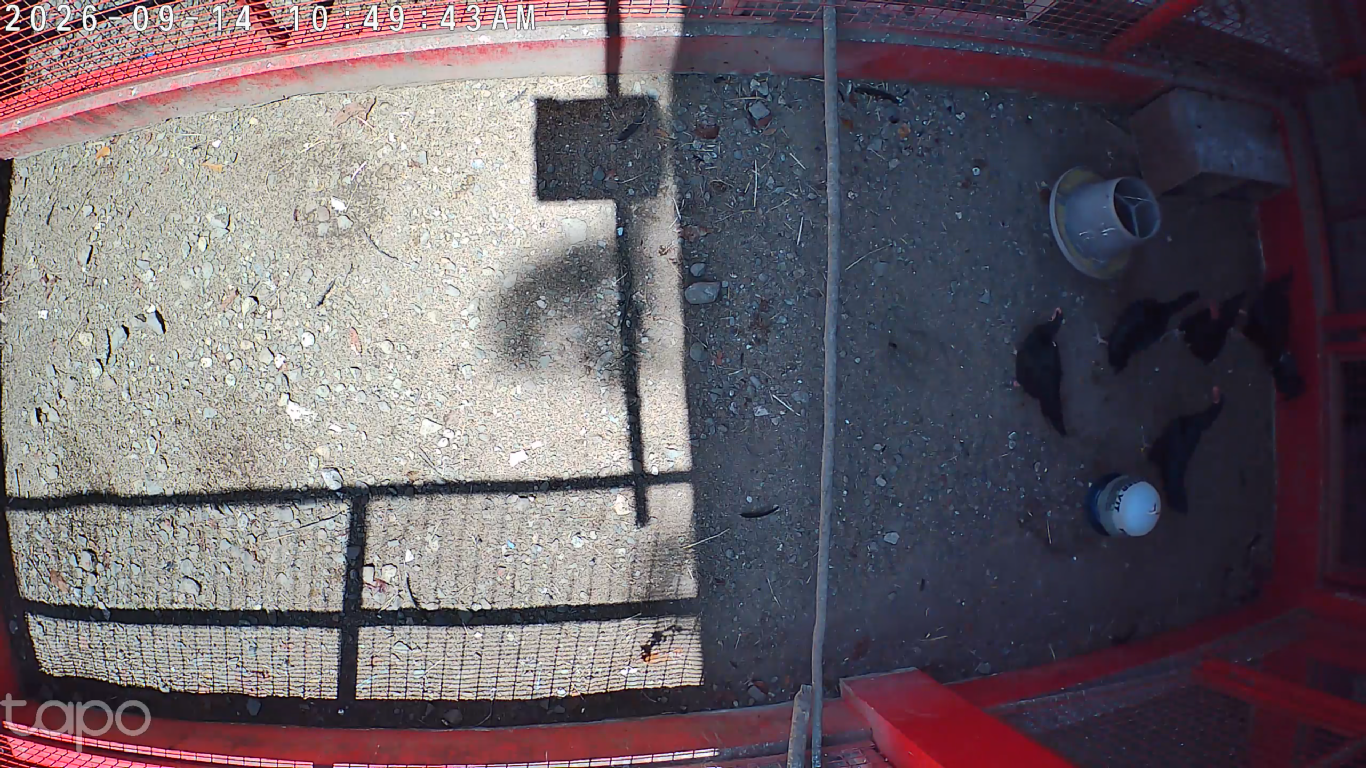Chicken: (1139, 384, 1227, 516), (1088, 286, 1207, 377), (1005, 305, 1070, 439)
